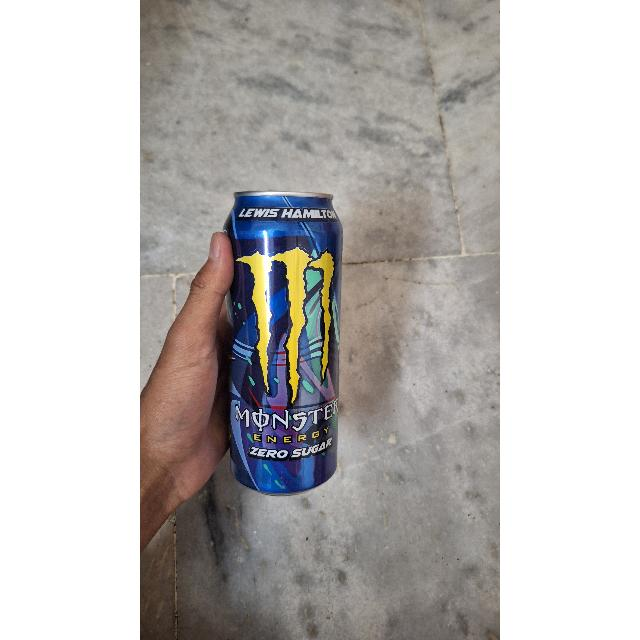Monster LH44: (228, 190, 342, 492)
